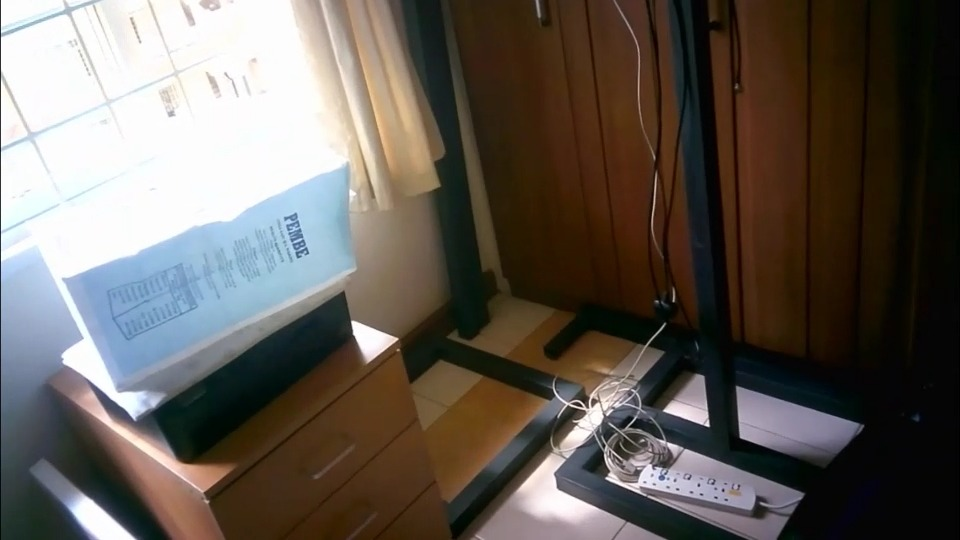wheat_flour_blue_label: (37, 151, 355, 383)
